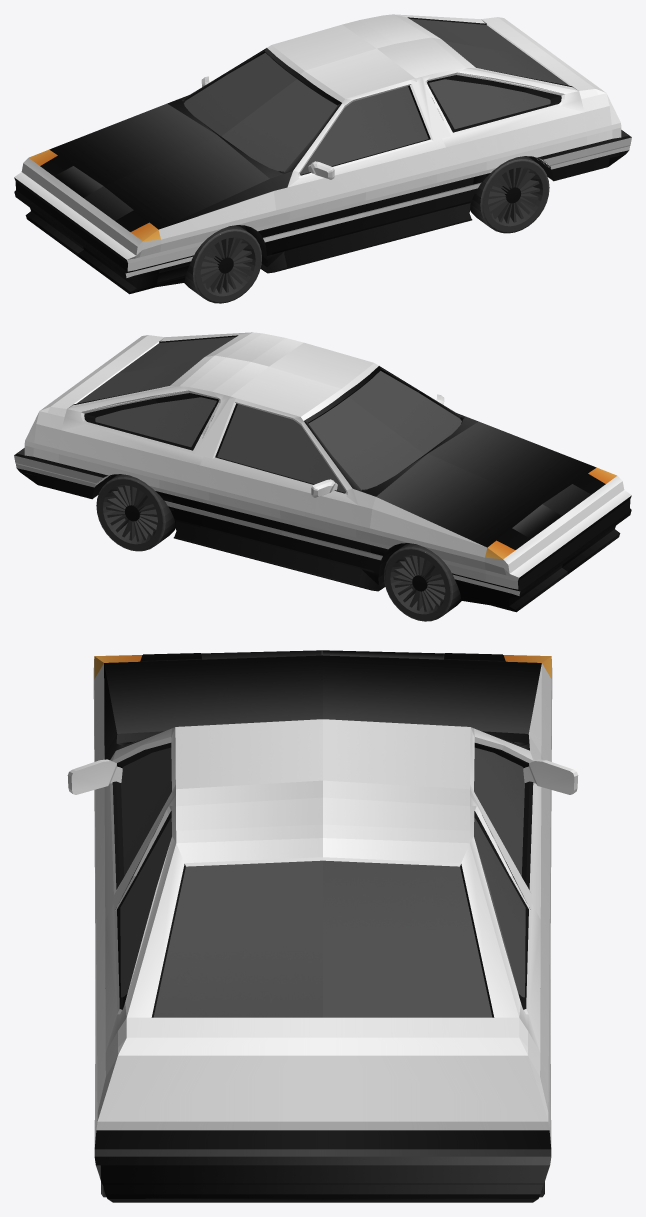
Rendered from coche.fbx.
3 views of the same model, one above another, from view 1: azimuth 30°, elevation 25°; view 2: azimuth 150°, elevation 25°; view 3: azimuth 270°, elevation 25° (orthographic). The views are drawn at different scales.
Parts seen in each view (by area): view 1: Coche; view 2: Coche; view 3: Coche.
Boxes of the visible parts, bbox=[...] form: Coche: bbox=[14, 14, 631, 303]; Coche: bbox=[14, 332, 631, 621]; Coche: bbox=[67, 650, 578, 1202].
Size of the model in its own units: 526 by 163 by 230.
1 material, 1 textured.
